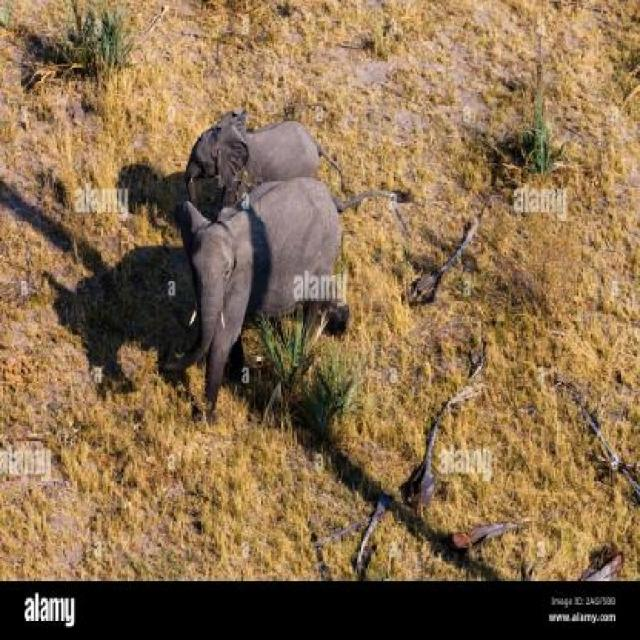elephant: (164, 177, 353, 418), (185, 108, 346, 207)
